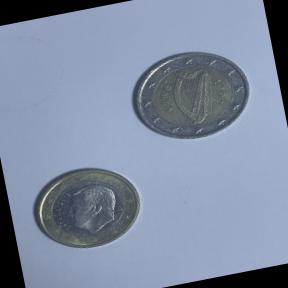1 Euro-B: (21, 155, 153, 261)
2 Euro-B: (120, 37, 261, 152)
